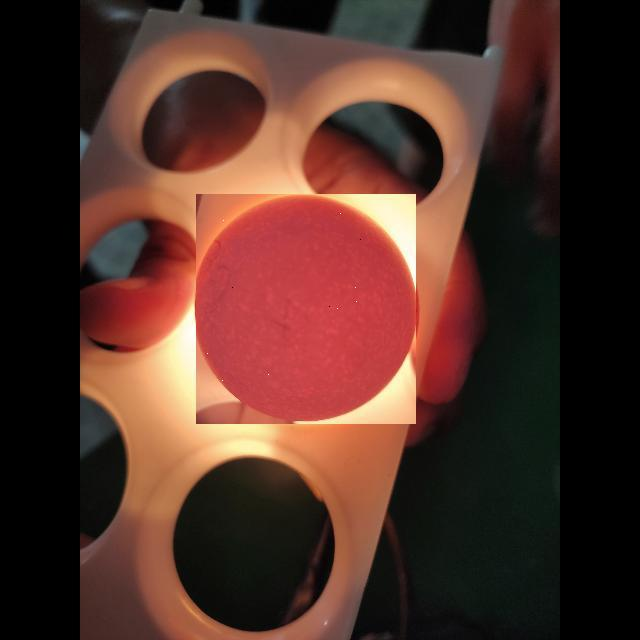A - Good: (196, 194, 416, 424)
